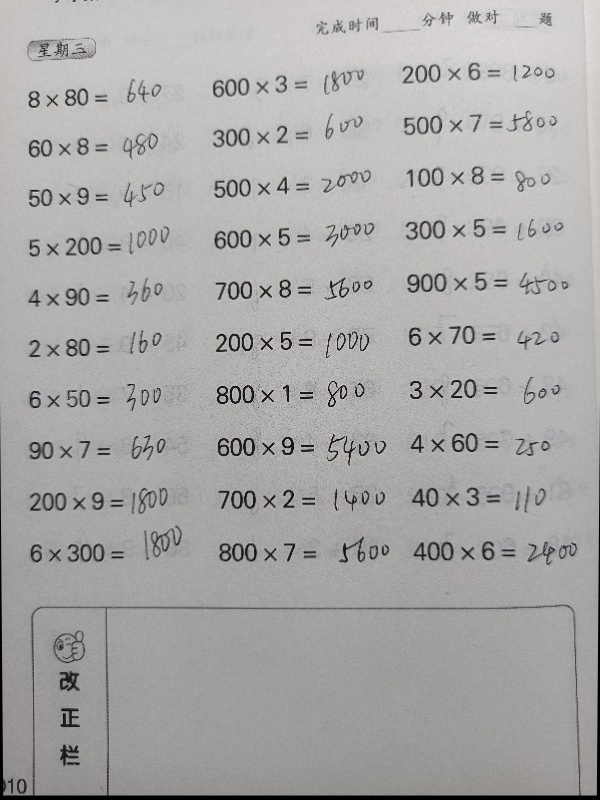equation: (387, 50, 572, 96), (20, 481, 201, 524), (20, 224, 202, 265), (397, 157, 579, 197), (396, 210, 578, 249), (394, 103, 577, 141), (397, 263, 578, 300), (19, 178, 201, 214), (205, 169, 387, 205), (206, 323, 388, 358), (206, 271, 388, 306), (204, 220, 386, 255), (203, 118, 385, 153), (203, 68, 385, 103), (403, 479, 584, 514), (19, 432, 200, 467), (400, 424, 581, 459), (21, 330, 202, 365), (399, 316, 580, 351), (19, 279, 200, 314), (22, 536, 202, 571), (210, 535, 390, 570), (404, 533, 584, 568), (209, 481, 389, 516), (208, 428, 388, 463), (206, 376, 388, 410), (400, 371, 581, 405), (21, 382, 201, 416), (18, 80, 201, 113), (19, 130, 201, 163)
